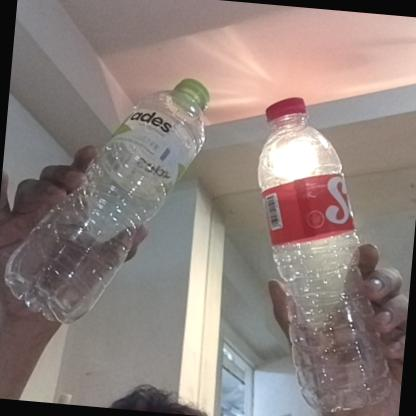plastic_bottles: (233, 90, 416, 416), (6, 58, 216, 328)
